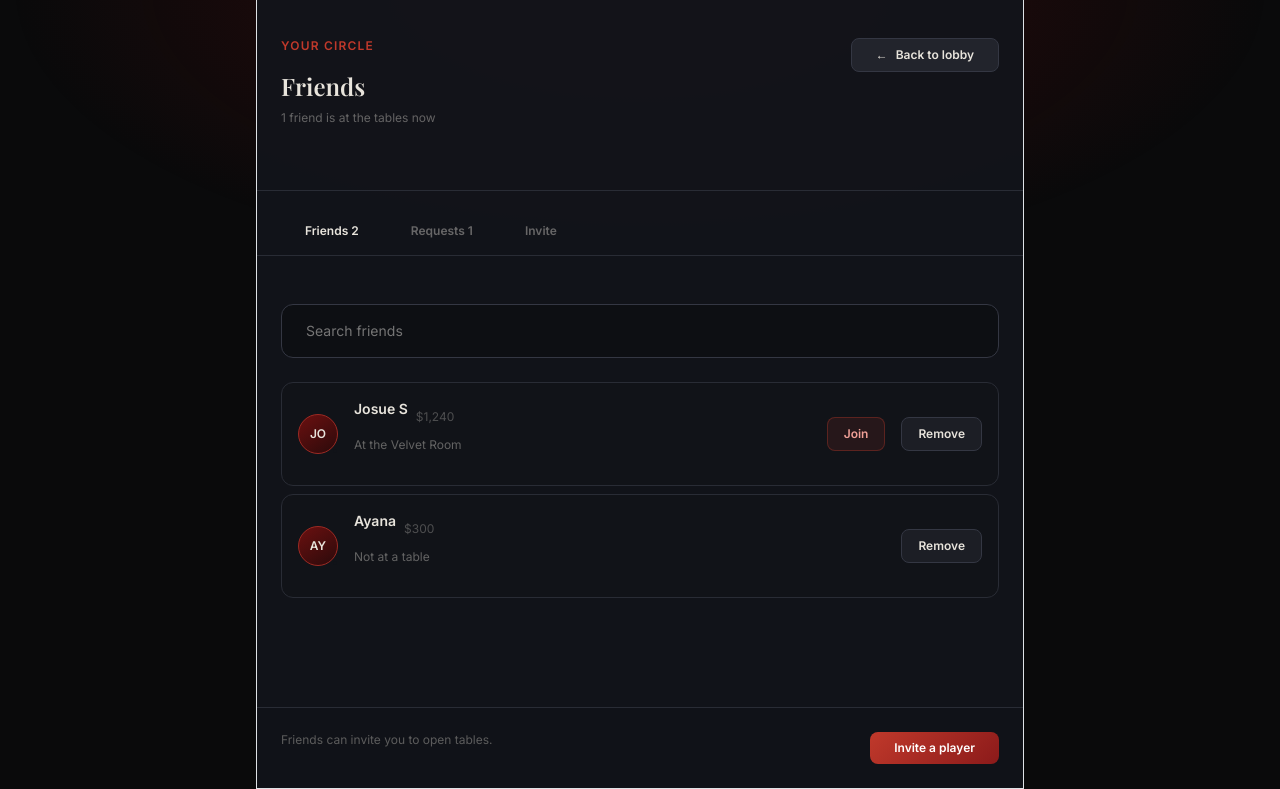
Test: Invite tab (send a friend request) › the bottom button switches between Invite and Friends
Click the button "Invite a player" at [935, 748], box [870,732,999,764]
(page scrolled)
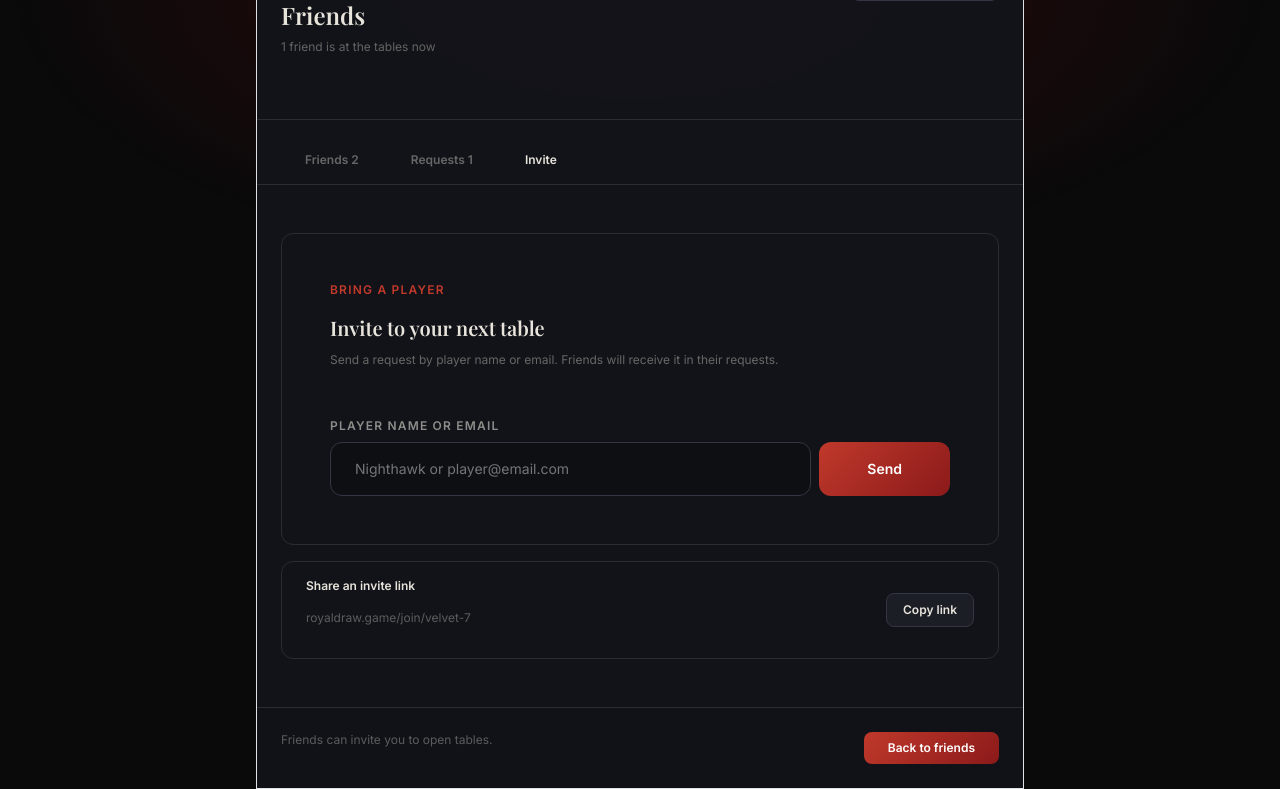
Result: the field labelled "Player name or email" is shown at [330,442,811,496]
Click the button "Back to friends" at [931, 748], box [864,732,999,764]
(page scrolled)
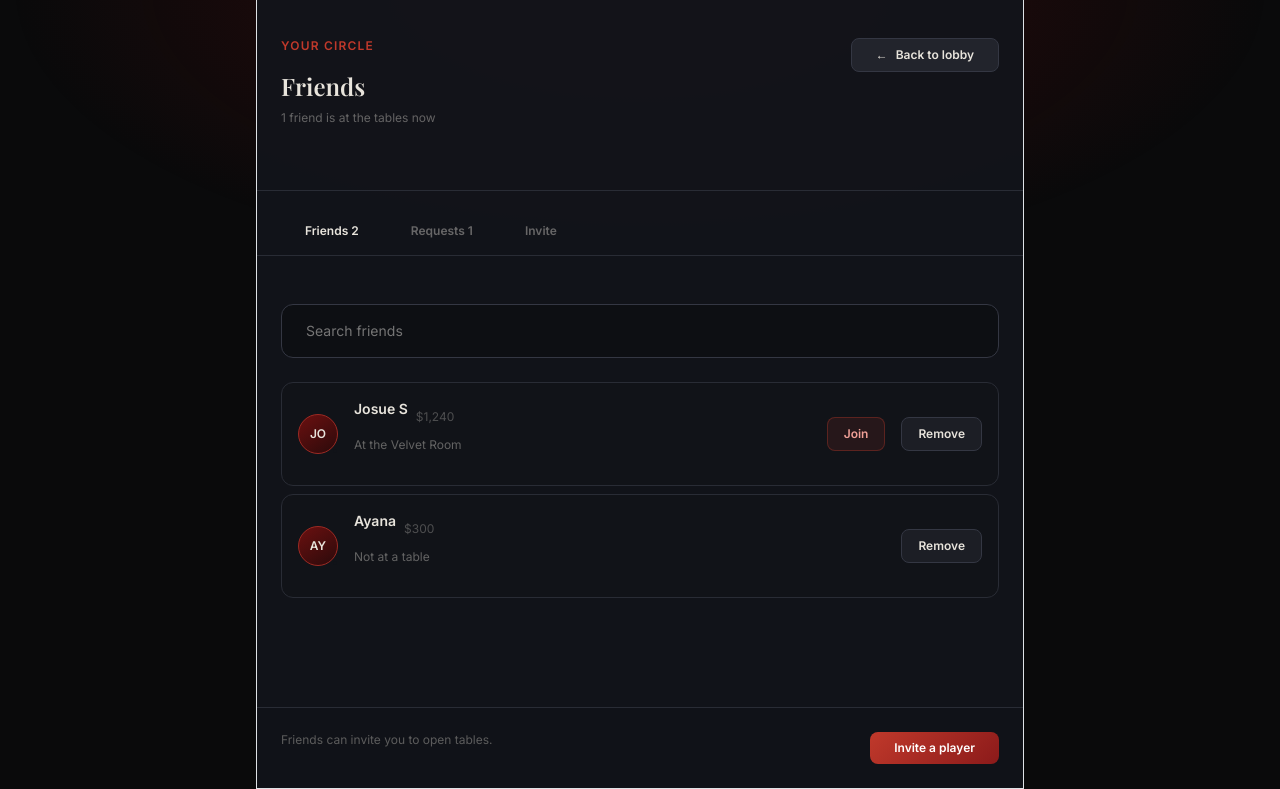
Result: the field labelled "Search friends" is shown at [281,304,999,358]
